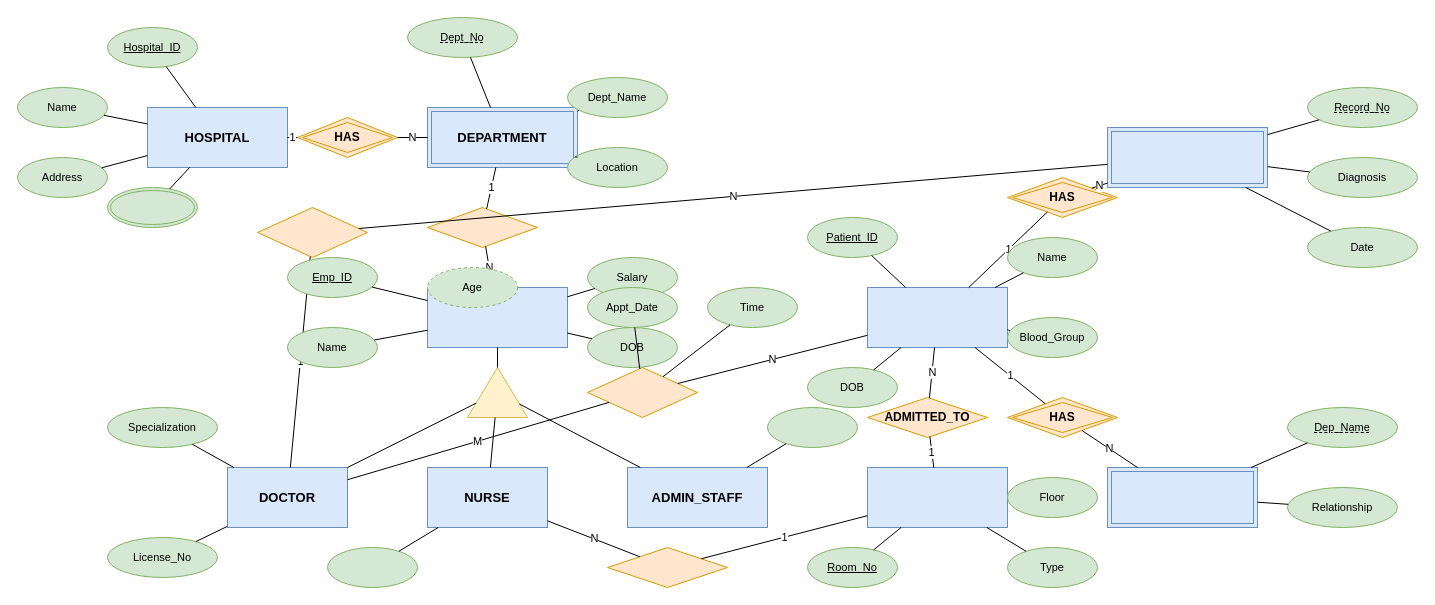
The diagram is 1435 pixels wide and 605 high, and some of its shapes have lost their labels. Here are the shapes that lost their labels. From the top down, the box of each, then its label:
(1106, 126, 1268, 188): MEDICAL_RECORD
(106, 186, 198, 228): Phone
(426, 206, 538, 248): WORKS_IN
(256, 206, 368, 258): WRITES
(426, 286, 568, 348): EMPLOYEE
(866, 286, 1008, 348): PATIENT
(466, 366, 528, 418): ISA
(586, 366, 698, 418): TREATS / APPOINTMENT
(766, 406, 858, 448): Role
(866, 466, 1008, 528): ROOM
(1106, 466, 1258, 528): DEPENDENT
(326, 546, 418, 588): Shift
(606, 546, 728, 588): ASSIGNED_TO
